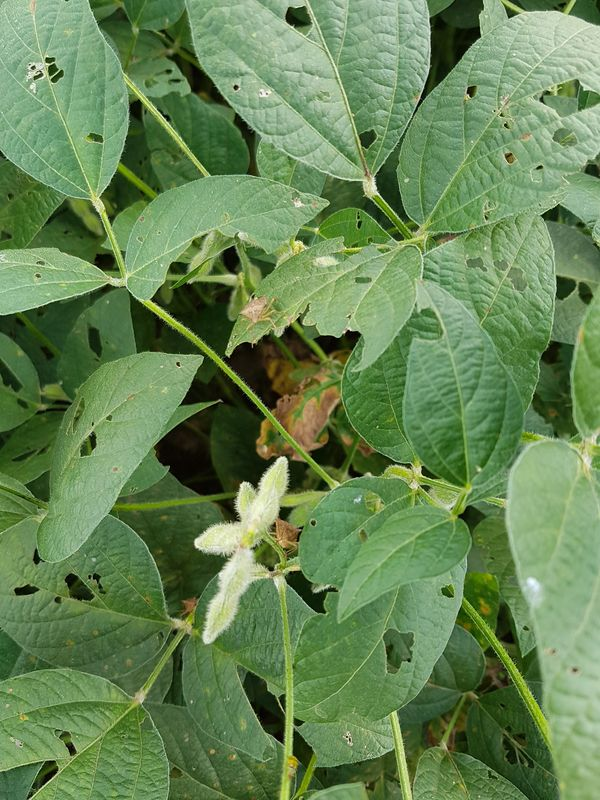Euschistus_heros_adulto: (231, 289, 294, 345), (260, 512, 312, 564), (171, 592, 208, 625)
